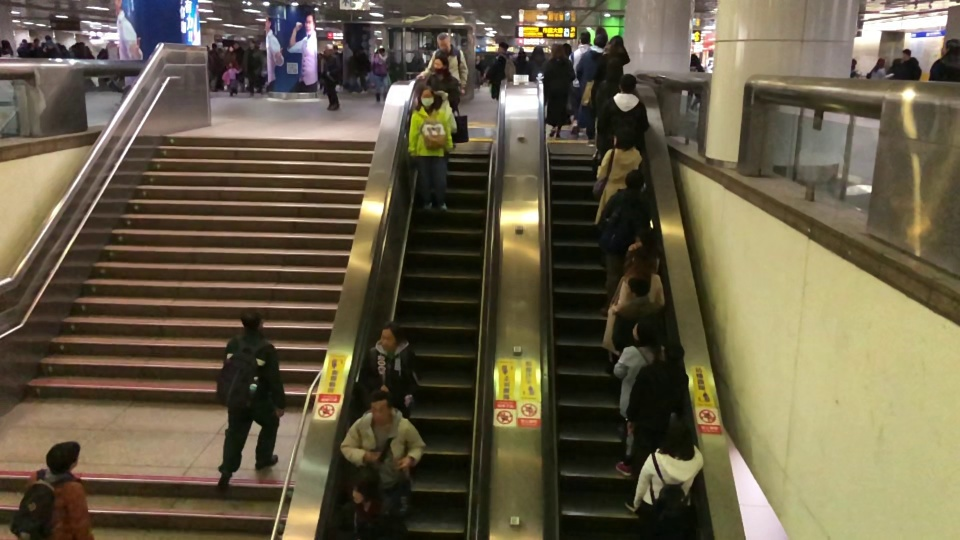person_head: (43, 440, 81, 475), (349, 465, 381, 505), (663, 421, 693, 452), (367, 390, 392, 426), (379, 320, 401, 353), (632, 246, 657, 273), (631, 318, 656, 344), (612, 125, 635, 151), (238, 309, 264, 332), (662, 341, 685, 364), (627, 277, 650, 299), (633, 226, 656, 248), (623, 169, 645, 192), (617, 72, 637, 93), (604, 57, 624, 78), (940, 38, 960, 58), (417, 85, 435, 107), (432, 51, 448, 73), (436, 31, 451, 51), (607, 34, 623, 49), (592, 34, 608, 49), (550, 43, 565, 59), (578, 30, 591, 47), (530, 45, 544, 60), (498, 41, 509, 54), (901, 48, 911, 61), (562, 43, 572, 56), (376, 47, 386, 57), (325, 43, 334, 54), (247, 39, 256, 50), (876, 58, 885, 68), (0, 39, 10, 48), (33, 37, 40, 47), (44, 34, 52, 42), (357, 44, 363, 54), (227, 45, 234, 53), (210, 42, 217, 50), (233, 40, 239, 49), (228, 62, 235, 69), (851, 58, 857, 66), (691, 54, 697, 61), (21, 38, 27, 45), (78, 42, 84, 48), (100, 47, 106, 53), (475, 55, 480, 60)
person_vbox: (216, 309, 287, 492), (362, 320, 420, 517), (623, 341, 689, 512), (595, 169, 654, 317), (339, 390, 426, 488), (633, 421, 704, 540), (613, 318, 664, 477), (27, 440, 96, 540), (324, 465, 411, 540), (406, 85, 453, 213), (592, 125, 642, 225), (595, 72, 650, 159), (611, 276, 662, 351), (611, 246, 665, 314), (576, 34, 608, 146), (416, 31, 468, 97), (540, 43, 576, 138), (590, 34, 631, 104), (567, 30, 592, 136), (425, 51, 460, 116), (595, 57, 625, 119), (622, 226, 660, 274), (241, 38, 266, 97), (485, 41, 509, 100), (928, 37, 960, 81), (321, 43, 340, 111), (888, 48, 921, 80), (370, 47, 389, 102), (687, 53, 704, 110), (522, 45, 547, 81), (353, 44, 368, 95), (233, 40, 245, 92), (208, 42, 220, 92), (868, 57, 894, 79), (227, 61, 241, 97), (27, 37, 46, 58), (44, 33, 60, 57), (222, 45, 237, 68), (475, 55, 485, 89), (78, 41, 94, 59), (0, 39, 14, 57), (16, 38, 28, 58), (850, 57, 861, 78), (97, 47, 107, 59)
